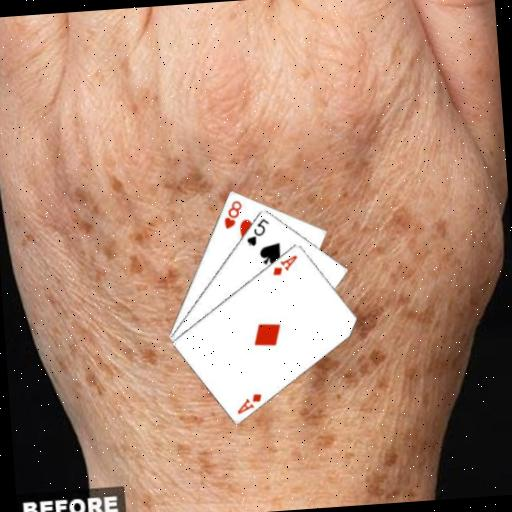5S: (242, 215, 272, 248)
8H: (219, 197, 245, 231)
AD: (268, 252, 300, 278), (232, 390, 264, 416)
